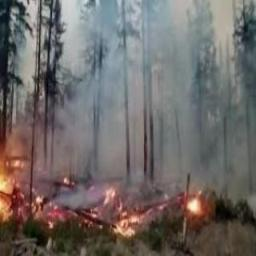Low smoke: (31, 5, 254, 207)
Small fire: (0, 137, 249, 242)
